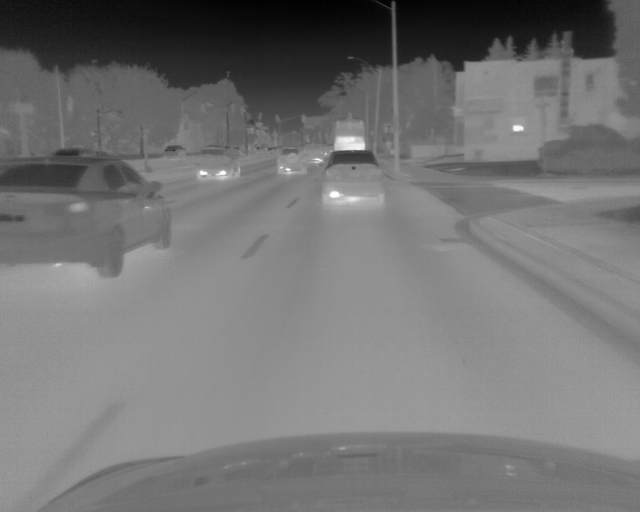car: (1, 156, 173, 277), (319, 149, 384, 210), (195, 146, 245, 184), (335, 116, 367, 152), (274, 145, 305, 177), (306, 143, 323, 165), (165, 144, 187, 157)
